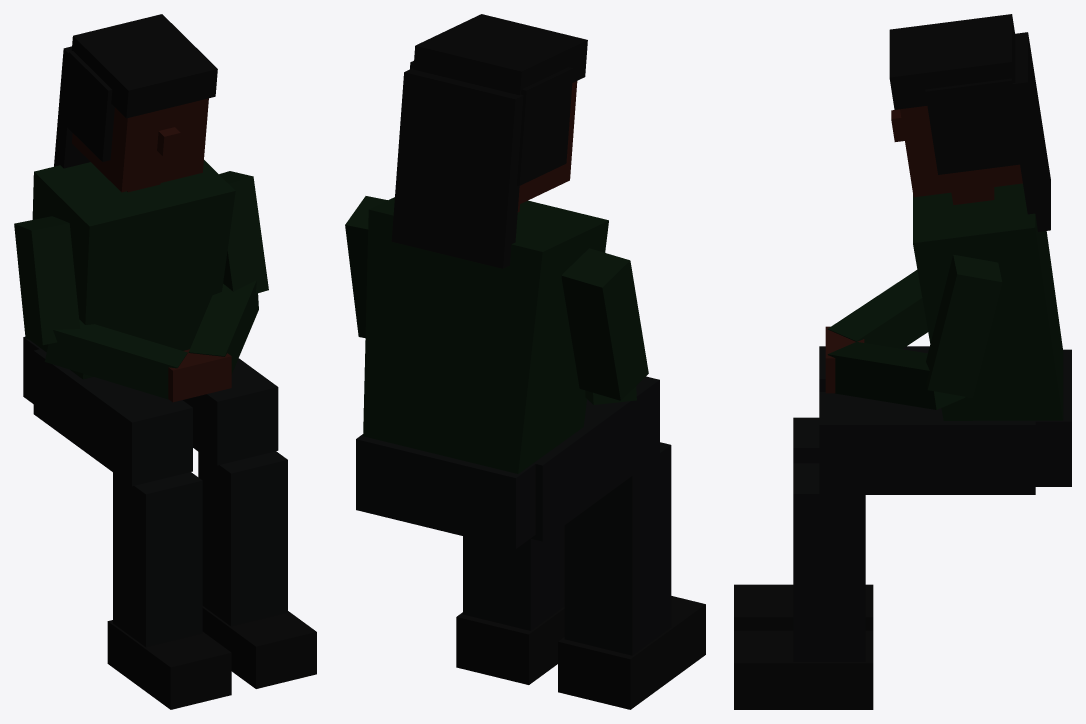
Rendered from espectador_B.obj.
3 views of the same model, side by side, from view 1: azimuth 30°, elevation 25°; view 2: azimuth 150°, elevation 25°; view 3: azimuth 270°, elevation 25° (orthographic). The views are drawn at different scales.
Visible parts, largest first — view 1: Espectador_B_Cuerpo; view 2: Espectador_B_Cuerpo; view 3: Espectador_B_Cuerpo.
Part boxes in pixels (x1,y1,x2,y2): Espectador_B_Cuerpo: (14,14,316,709); Espectador_B_Cuerpo: (345,14,705,709); Espectador_B_Cuerpo: (734,14,1071,709).
Size of the model in its own units: 0.5573 by 1.35 by 0.655.
